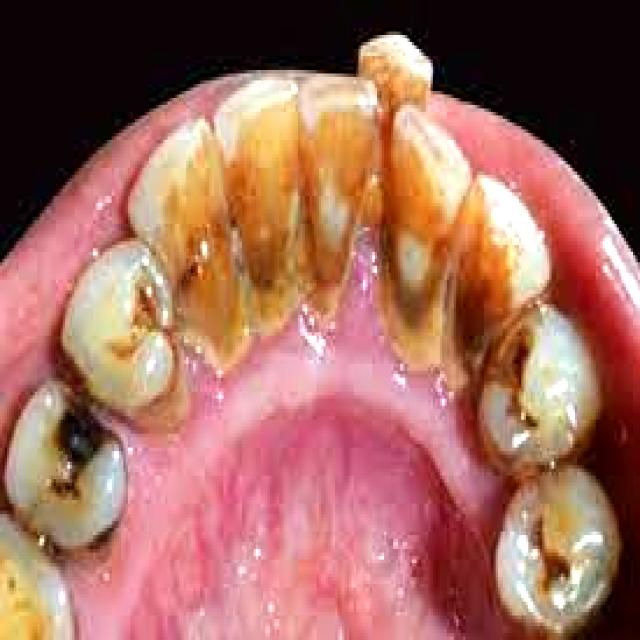tooth-discoloration: (128, 70, 382, 371), (386, 101, 470, 353), (5, 381, 126, 546), (451, 171, 549, 357)
